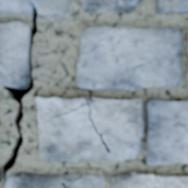brick: (36, 97, 143, 161), (78, 26, 182, 90), (146, 99, 187, 164), (0, 23, 28, 85), (5, 174, 103, 187), (111, 173, 187, 187), (80, 0, 141, 13), (157, 0, 187, 13)
broken_brick: (0, 0, 68, 15)
crack: (0, 2, 39, 185), (55, 97, 111, 154), (61, 182, 67, 187)
